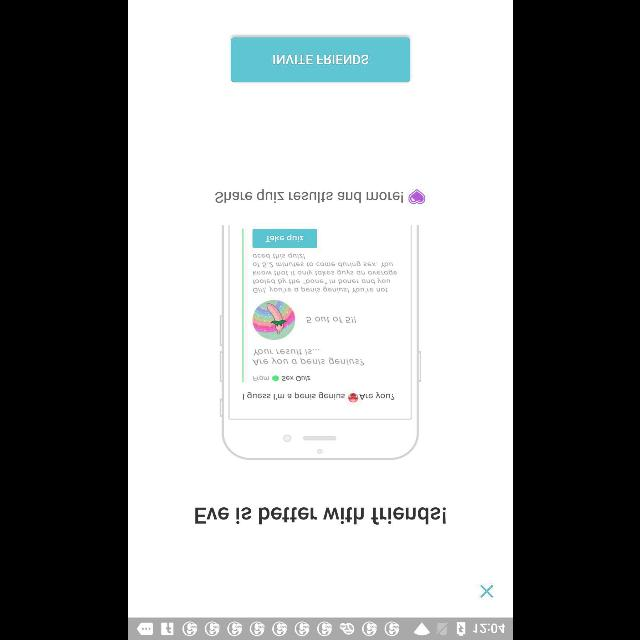icon: (480, 584, 492, 598)
image: (219, 225, 421, 460)
text: (194, 507, 446, 525), (214, 189, 424, 205)
textbutton: (230, 38, 410, 82)
uppertaskbar: (128, 617, 512, 639)
